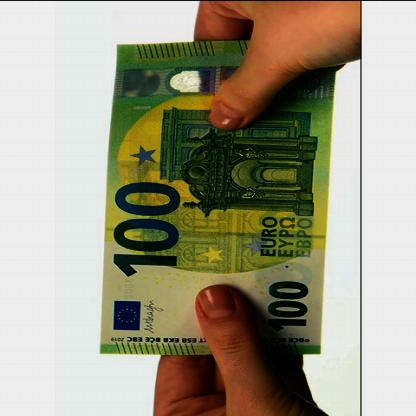euro_banknote: (58, 88, 378, 312)
